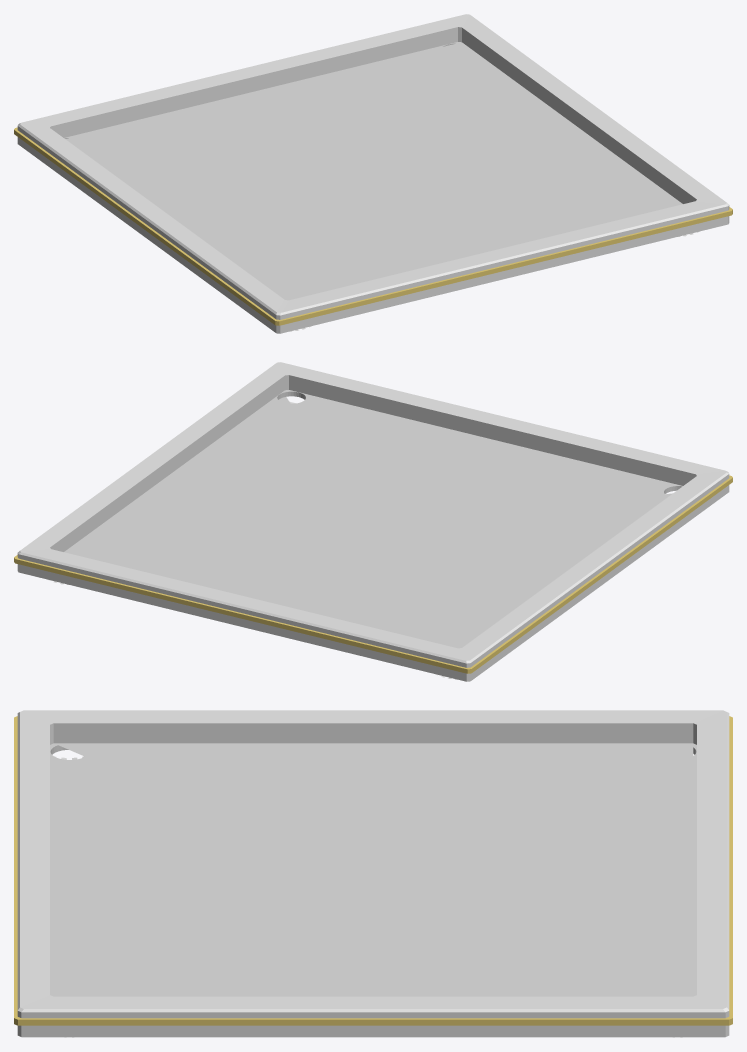
The model's file is carromboard.fbx.
3 renders of one model, top to bottom at view 1: azimuth 30°, elevation 25°; view 2: azimuth 150°, elevation 25°; view 3: azimuth 270°, elevation 25°, orthographic. The views are drawn at different scales.
Visible parts, largest first — view 1: Pocketed Board with Nets; view 2: Pocketed Board with Nets; view 3: Pocketed Board with Nets.
Part boxes in pixels (x1,y1,x2,y2): Pocketed Board with Nets: (14, 14, 732, 333); Pocketed Board with Nets: (14, 362, 732, 681); Pocketed Board with Nets: (14, 710, 732, 1037).
Bounding box in the file's own units: 82.21 × 5.22 × 82.21.
